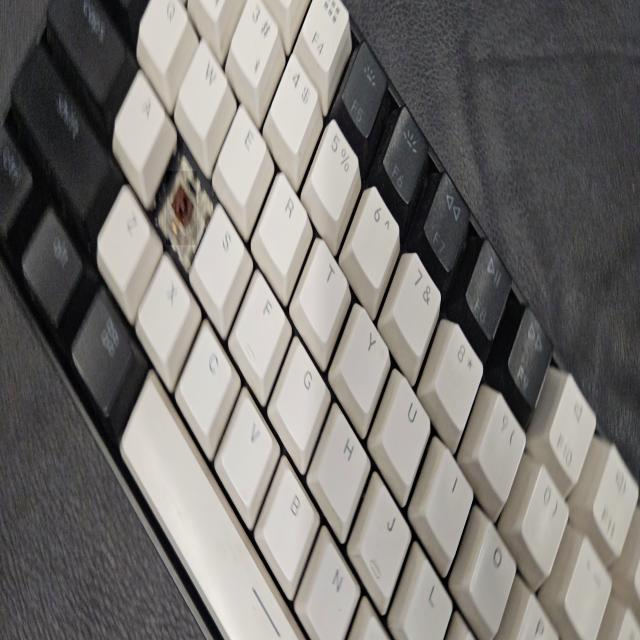C: (166, 171, 197, 245)
